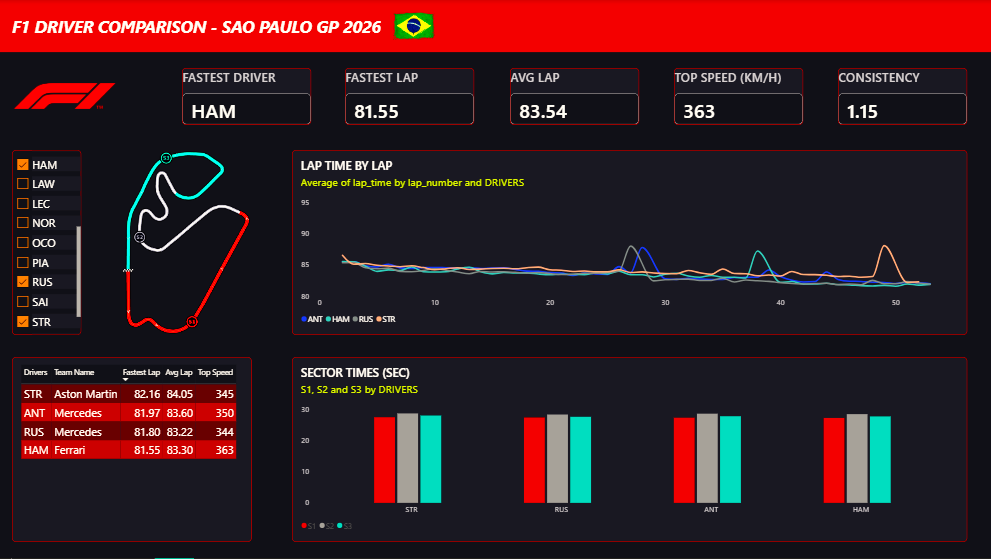

The dashboard page shown, as its layout file describes it:
{"tool":"powerbi","page":{"name":"Driver Comparison","canvas":[1920,1080],"ordinal":0},"visuals":[{"type":"shape","box":[0,0,1920,100.9],"z":0},{"type":"slicer","fields":{"Values":["f1_compare v_laps.acronym"]},"box":[25.2,290.1,133.7,358.3],"z":1000},{"type":"cardVisual","title":"FASTEST LAP","fields":{"Data":["f1_compare v_laps.Fastest Lap"]},"box":[670,131.2,250,110],"z":2000},{"type":"cardVisual","title":"AVG LAP","fields":{"Data":["f1_compare v_laps.Avg Lap"]},"box":[989,131.2,250,110],"z":3000},{"type":"cardVisual","title":"TOP SPEED (KM/H)","fields":{"Data":["f1_compare v_laps.Top Speed"]},"box":[1306.9,131.2,250,110],"z":4000},{"type":"cardVisual","title":"CONSISTENCY","fields":{"Data":["f1_compare v_laps.Consistency"]},"box":[1624.8,131.2,250,110],"z":5000},{"type":"lineChart","title":"LAP TIME BY LAP","fields":{"Category":["f1_compare v_laps.lap_number"],"Series":["f1_compare v_laps.acronym"],"Y":["Avg(f1_compare v_laps.lap_time)"]},"box":[567.7,290.1,1306.9,358.3],"z":6000},{"type":"clusteredColumnChart","title":"SECTOR TIMES (SEC)","fields":{"Category":["f1_compare v_laps.acronym"],"Y":["Avg(f1_compare v_laps.sector1)","Avg(f1_compare v_laps.sector2)","Avg(f1_compare v_laps.sector3)"]},"box":[567.7,691.3,1306.9,358],"z":7000},{"type":"tableEx","title":"TIMING TOWER","fields":{"Values":["f1_compare v_laps.acronym","f1_compare v_laps.team_name","f1_compare v_laps.Fastest Lap","f1_compare v_laps.Avg Lap","f1_compare v_laps.Top Speed"]},"box":[25.2,691.3,464.2,358.3],"z":8000},{"type":"image","box":[25.2,80.7,204.4,209.4],"z":9000},{"type":"image","box":[761.9,15.1,80.7,70.6],"z":10000},{"type":"cardVisual","title":"FASTEST DRIVER","fields":{"Data":["f1_compare v_laps.Fastest Driver"]},"box":[355,131.2,250,110],"z":10001},{"type":"image","box":[196.8,290.1,330.5,358.3],"z":10002}]}

Visuals, with their boxes in screenshot pixels (x1, y1, x2, y2), scaled from the page's 1920x1080 canvas onto the 991x559 screenshot:
shape: (0,0,990,52)
slicer - f1_compare v_laps.acronym: (13,150,82,336)
"FASTEST LAP" cardVisual: (346,68,475,125)
"AVG LAP" cardVisual: (510,68,640,125)
"TOP SPEED (KM/H)" cardVisual: (675,68,804,125)
"CONSISTENCY" cardVisual: (839,68,968,125)
"LAP TIME BY LAP" lineChart: (293,150,968,336)
"SECTOR TIMES (SEC)" clusteredColumnChart: (293,358,968,543)
"TIMING TOWER" tableEx: (13,358,253,543)
image: (13,42,119,150)
image: (393,8,435,44)
"FASTEST DRIVER" cardVisual: (183,68,312,125)
image: (102,150,272,336)
